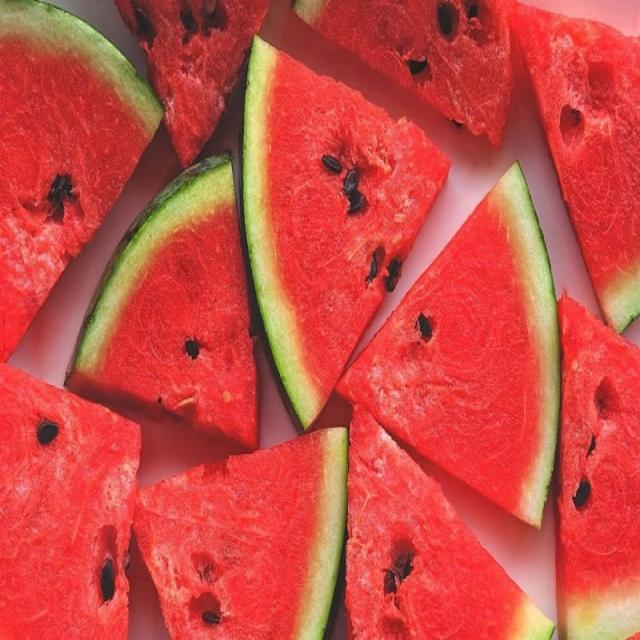dua hau: (337, 164, 558, 526), (244, 38, 449, 427), (66, 155, 257, 447), (345, 410, 552, 639), (134, 422, 348, 639), (508, 3, 639, 329), (0, 363, 141, 639), (293, 0, 510, 143), (557, 298, 639, 639), (116, 0, 267, 163)
